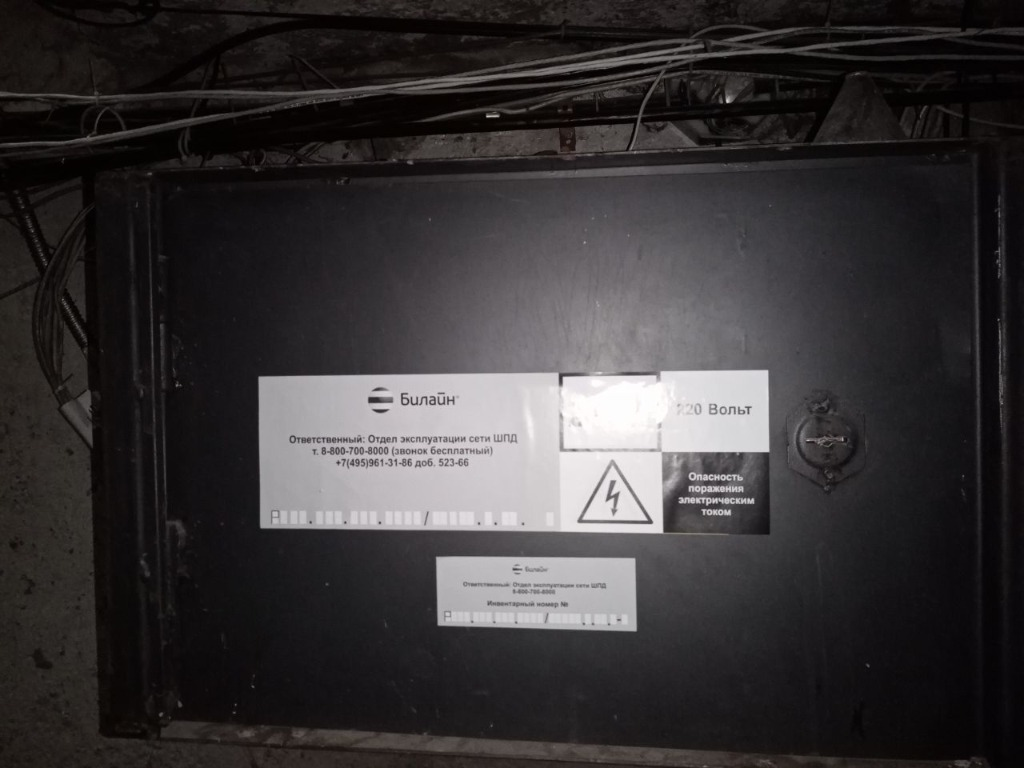e2-6u: (75, 126, 1021, 764)
